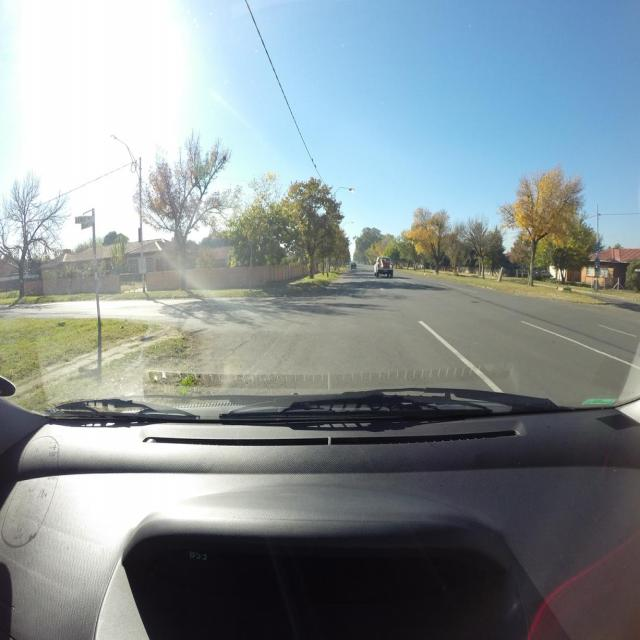Pothole: (190, 328, 207, 336), (471, 302, 479, 303)
